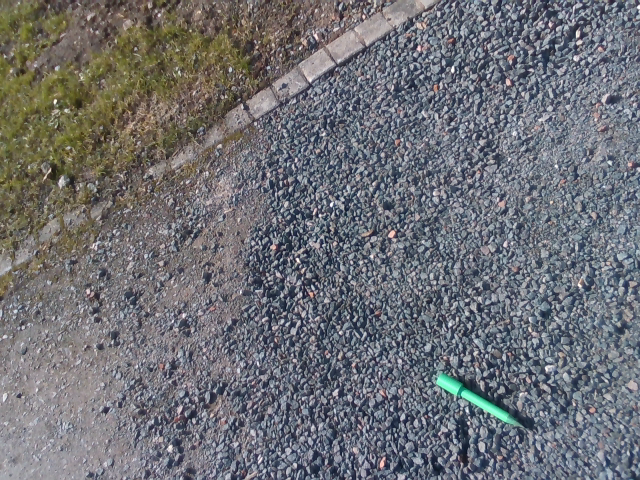Probe: (433, 370, 534, 436)
